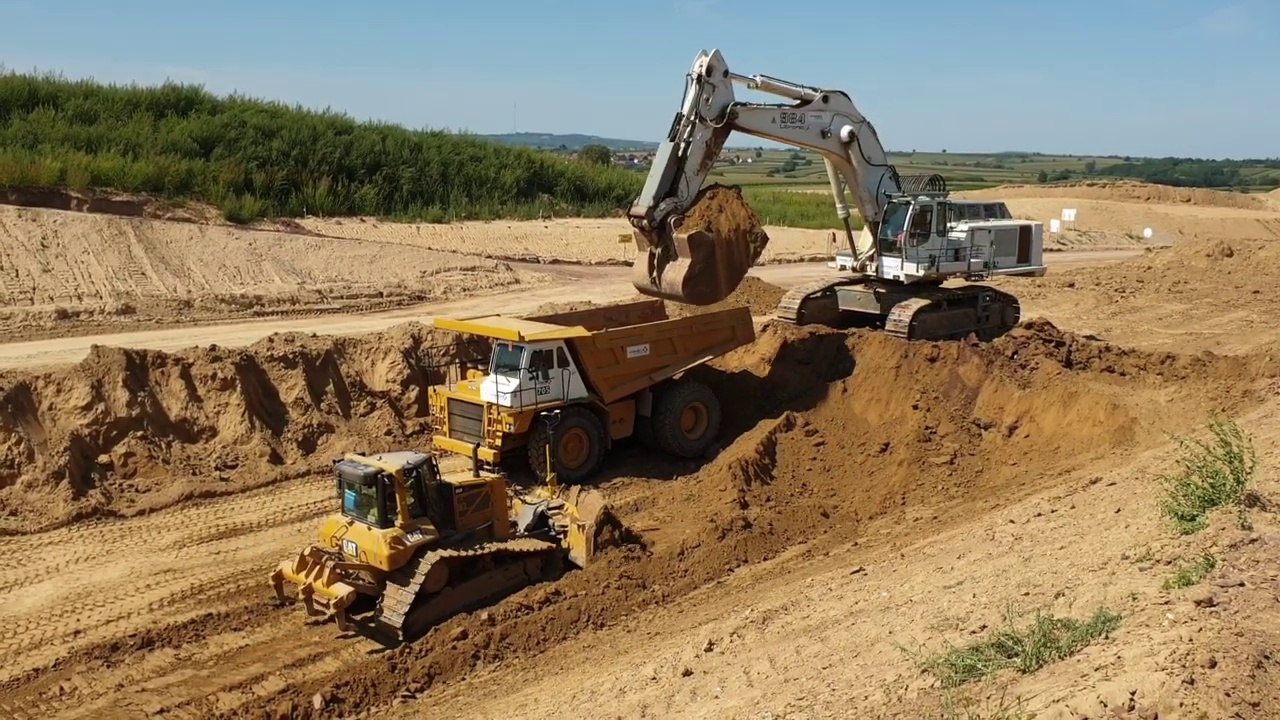bulldozer: (266, 405, 650, 647)
excavator: (623, 44, 1053, 350)
truck: (412, 296, 766, 488)
